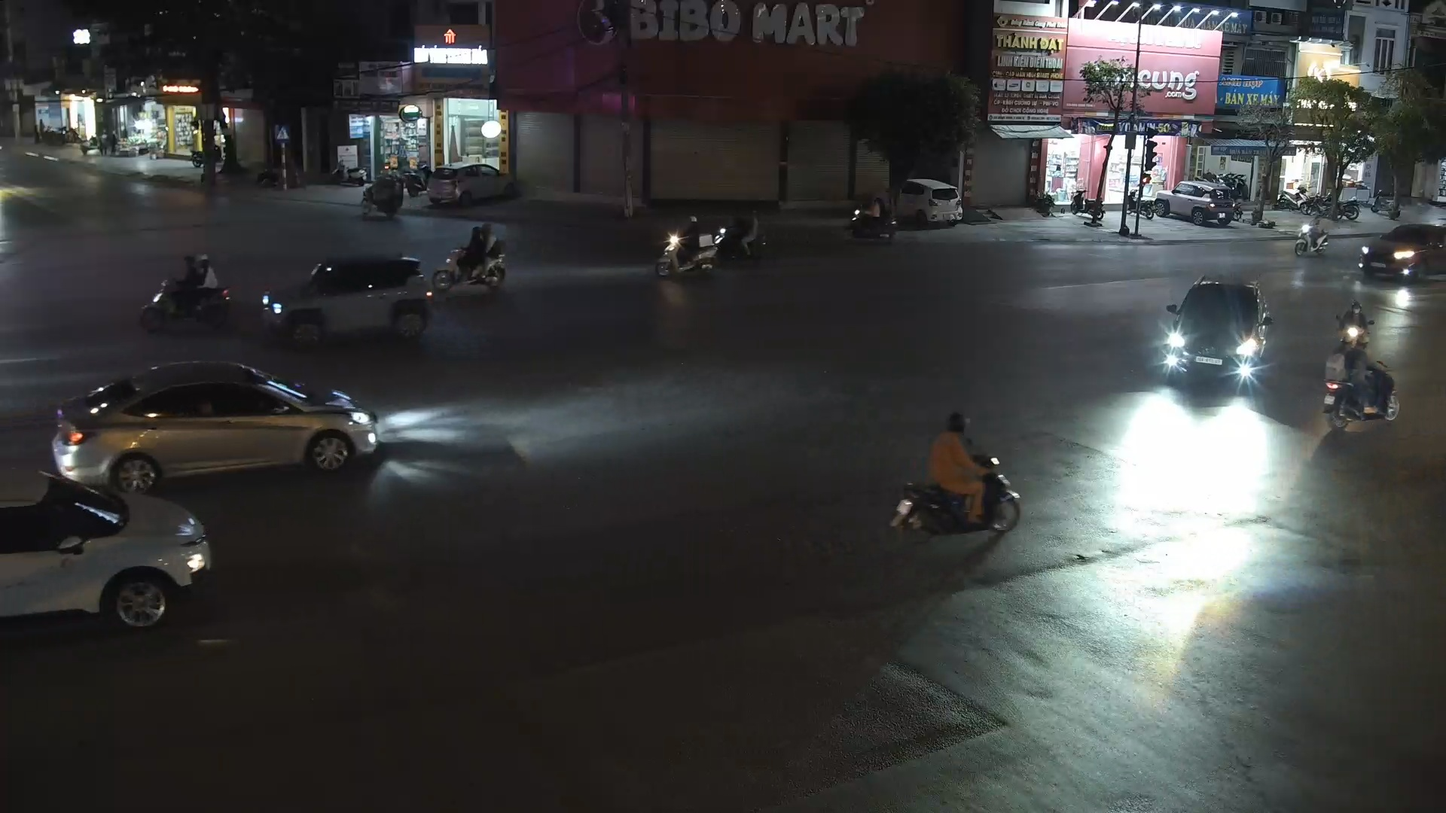car: (51, 360, 382, 488), (0, 477, 213, 633), (261, 253, 435, 348), (1163, 274, 1274, 392), (1357, 220, 1445, 286), (893, 175, 964, 226)
motorbike: (889, 409, 1021, 543), (1319, 329, 1400, 434), (137, 249, 236, 334), (430, 221, 510, 294), (653, 215, 720, 278), (1333, 297, 1374, 351)
